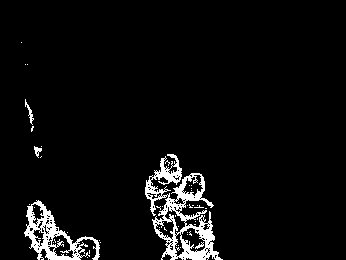person: (146, 152, 177, 244)
